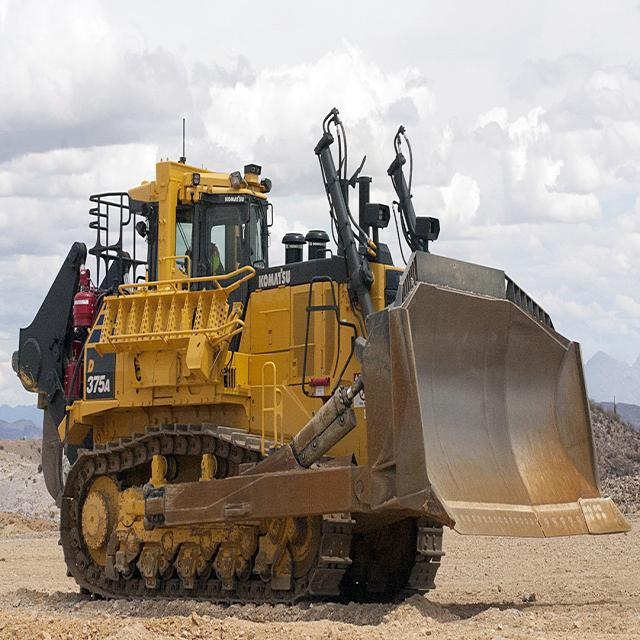buldozerpayloadergrader: (18, 140, 630, 609)
